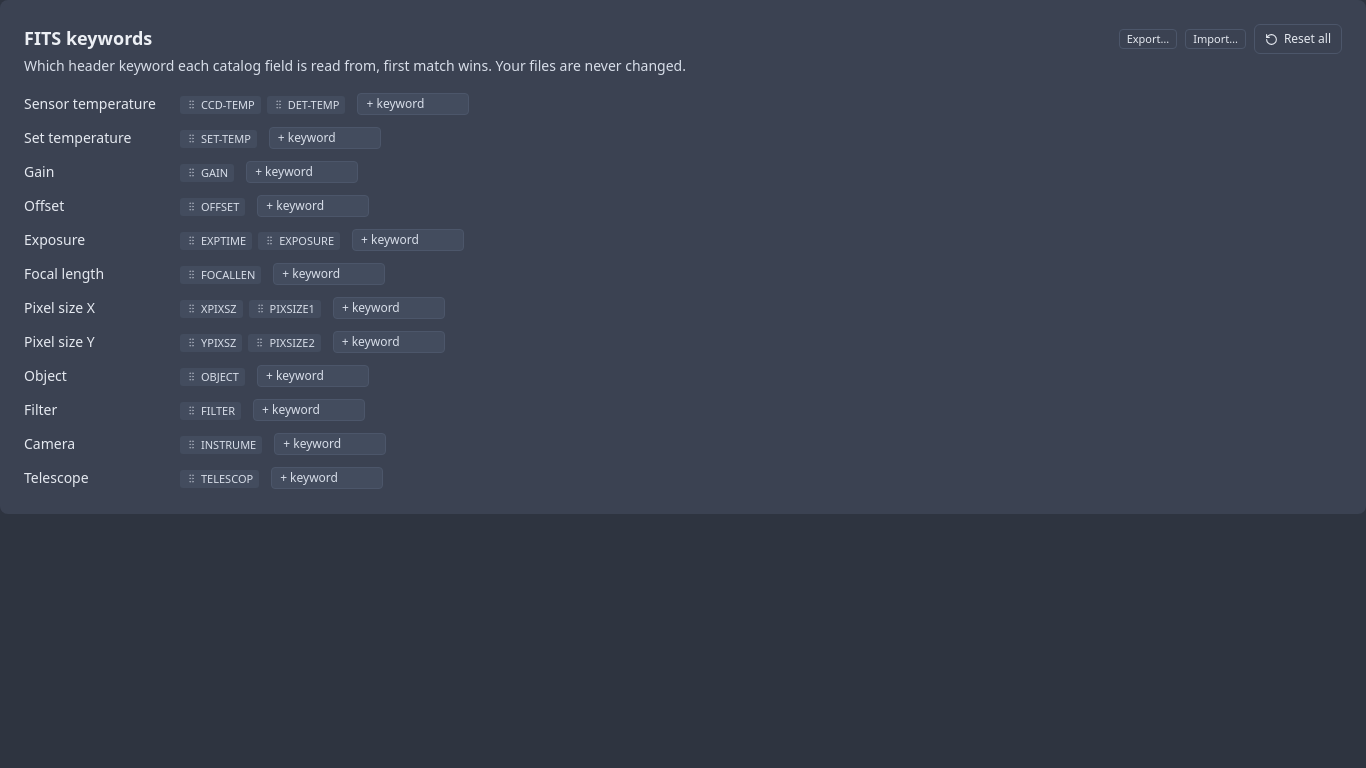
Test: HeaderKeywordsSection › adding_a_case_variant_of_a_default_shows_an_inline_error
The width and height of the screenshot is (1366, 768).
Type "ccd-temp " into the field with placeholder "+ keyword" next to "DET-TEMP". click: (414, 104)
box: [358,93,470,115]
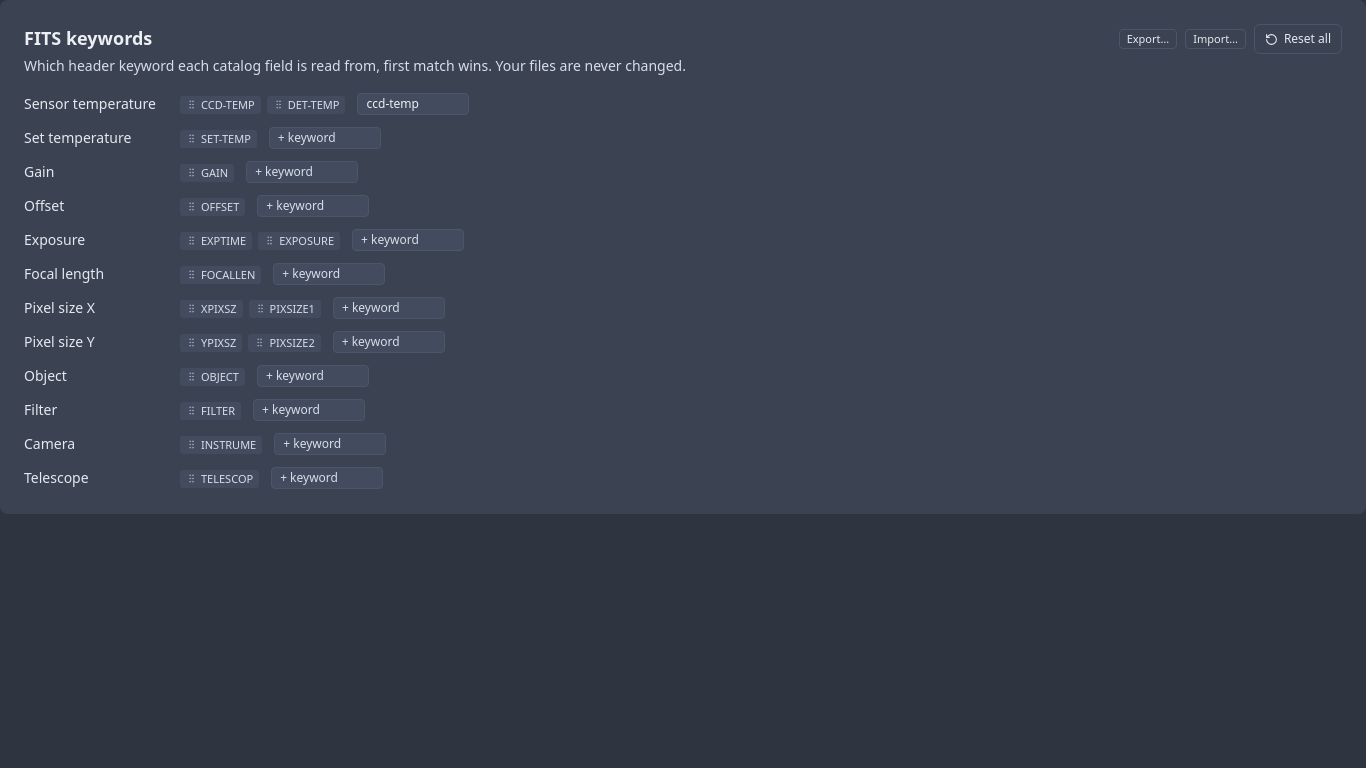
Press Enter in the field named "Add a keyword to Sensor temperature", box [358,93,470,115]
Wait 2000 ms
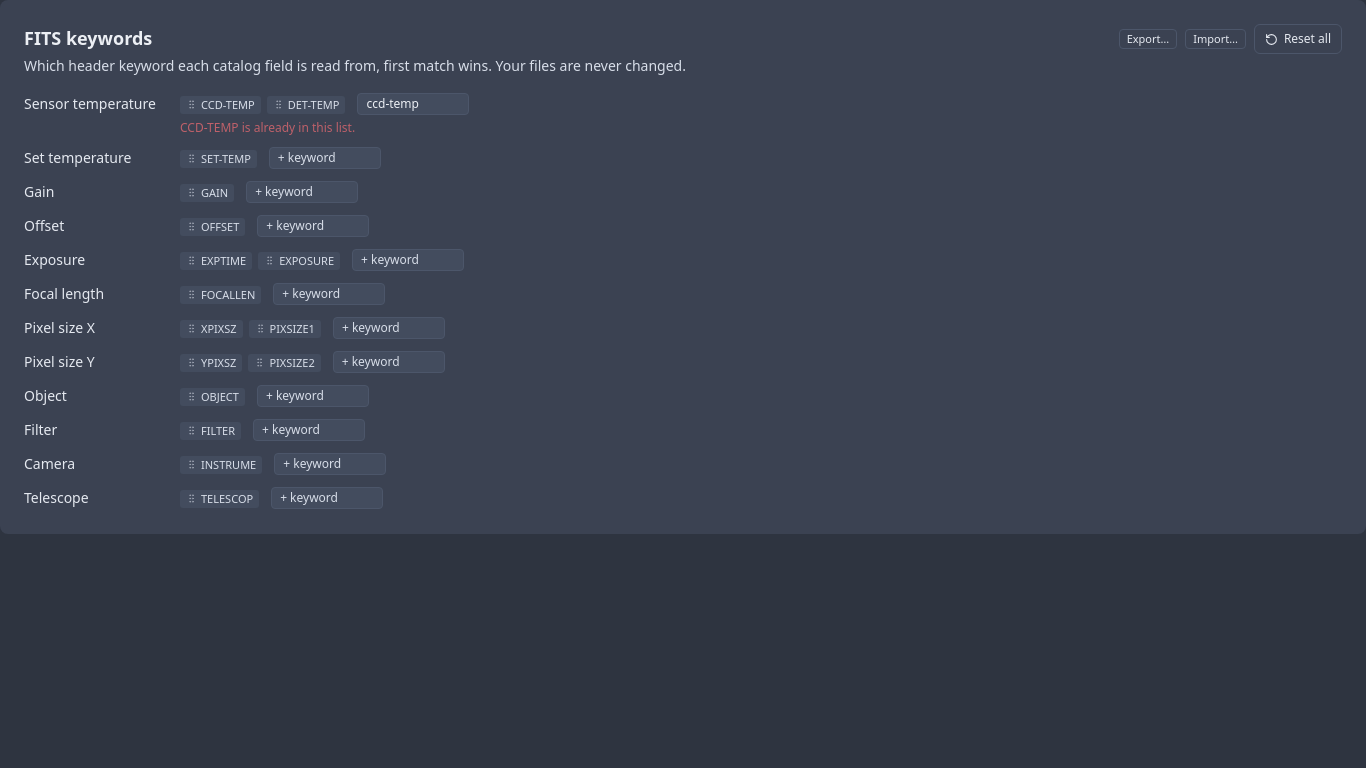
Expected: the text "CCD-TEMP is already in this list." is shown, [180,119,355,136]
